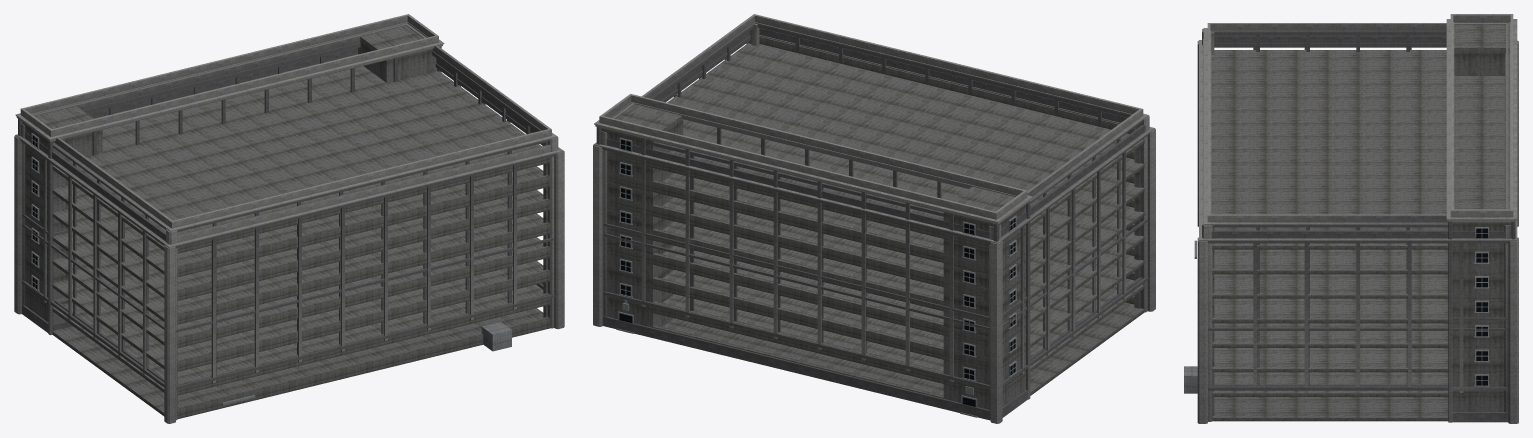
Rendered from parking-deck_lod0.gltf.
The picture shows the model from 3 angles, left to right: view 1: azimuth 30°, elevation 25°; view 2: azimuth 150°, elevation 25°; view 3: azimuth 270°, elevation 25°; orthographic projection. The views are drawn at different scales.
Visible parts, largest first — view 1: parking-deck_decks, parking-deck__v4_stone_detail, parking-deck_stairs, parking-deck__ticket_booth, parking-deck_fen_14-steel-panel_0; view 2: parking-deck_decks, parking-deck__v4_stone_detail, parking-deck_stairs, parking-deck_fen_14-steel-panel_0, parking-deck_fen_07-glass-curtain-blue_1_t, parking-deck_columns; view 3: parking-deck_decks, parking-deck__v4_stone_detail, parking-deck_stairs, parking-deck_fen_14-steel-panel_0, parking-deck_fen_07-glass-curtain-blue_1_t, parking-deck_columns, parking-deck__ticket_booth.
Boxes of the visible parts, <box> form: parking-deck_decks: <box>25,66,550,418</box>; parking-deck__v4_stone_detail: <box>14,14,564,423</box>; parking-deck_stairs: <box>22,23,437,323</box>; parking-deck__ticket_booth: <box>481,322,511,351</box>; parking-deck_fen_14-steel-panel_0: <box>30,133,39,291</box>; parking-deck_decks: <box>607,36,1144,409</box>; parking-deck__v4_stone_detail: <box>593,14,1155,423</box>; parking-deck_stairs: <box>601,104,1025,409</box>; parking-deck_fen_14-steel-panel_0: <box>618,137,1017,407</box>; parking-deck_fen_07-glass-curtain-blue_1_t: <box>619,139,1015,406</box>; parking-deck_columns: <box>751,23,1140,308</box>; parking-deck_decks: <box>1211,50,1504,421</box>; parking-deck__v4_stone_detail: <box>1197,14,1518,423</box>; parking-deck_stairs: <box>1452,23,1511,411</box>; parking-deck_fen_14-steel-panel_0: <box>1474,227,1489,386</box>; parking-deck_fen_07-glass-curtain-blue_1_t: <box>1476,228,1487,385</box>; parking-deck_columns: <box>1211,32,1214,415</box>; parking-deck__ticket_booth: <box>1184,366,1197,393</box>.
Size of the model in its own units: 61.53 by 30.11 by 43.26.
